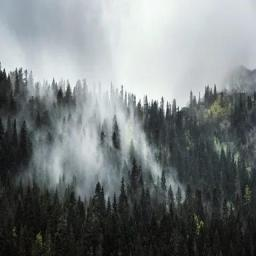Low smoke: (0, 0, 174, 217)
